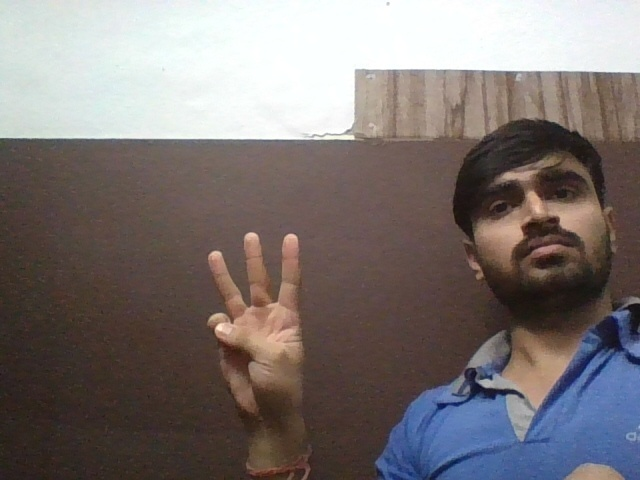W: (195, 222, 325, 432)
